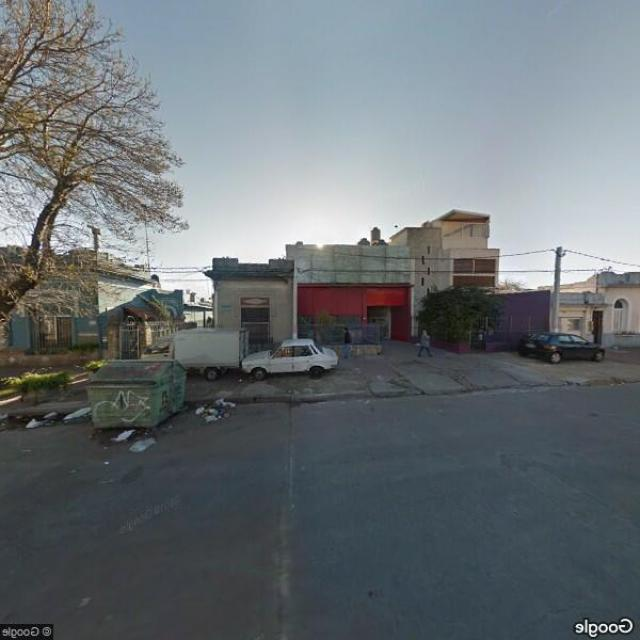garbage container: (70, 348, 200, 443)
